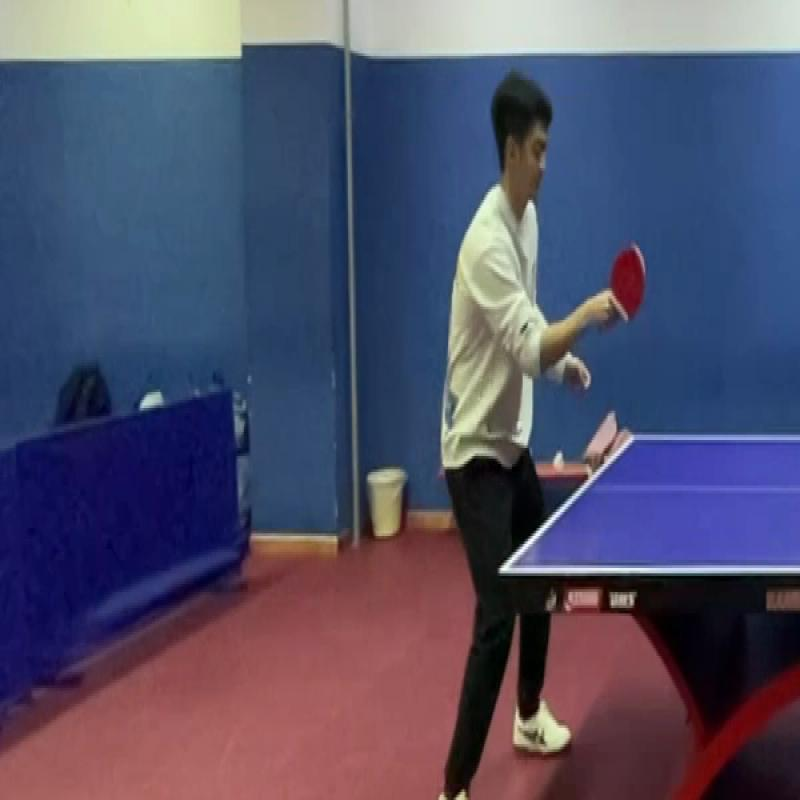bats: (601, 234, 650, 333)
